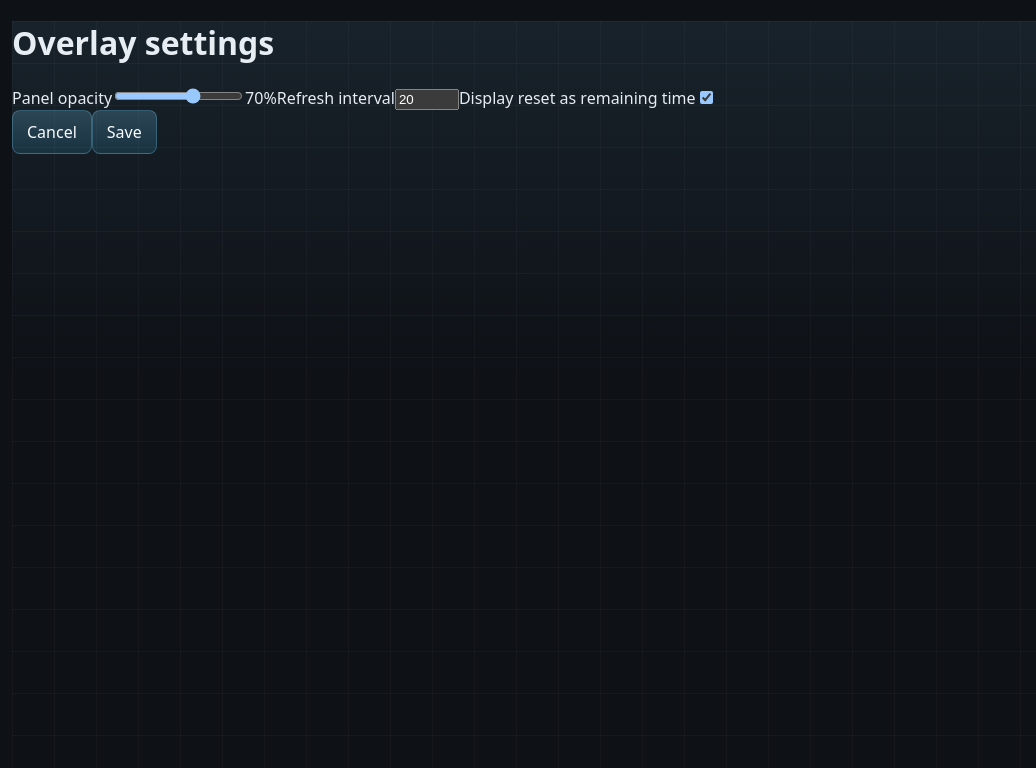
Test: SettingsDialog › slider와 number 표시가 panelAlphaPercent 값을 공유한다
Set the slider labelled "Panel opacity" to "55" at (172, 96), box [114,88,243,104]
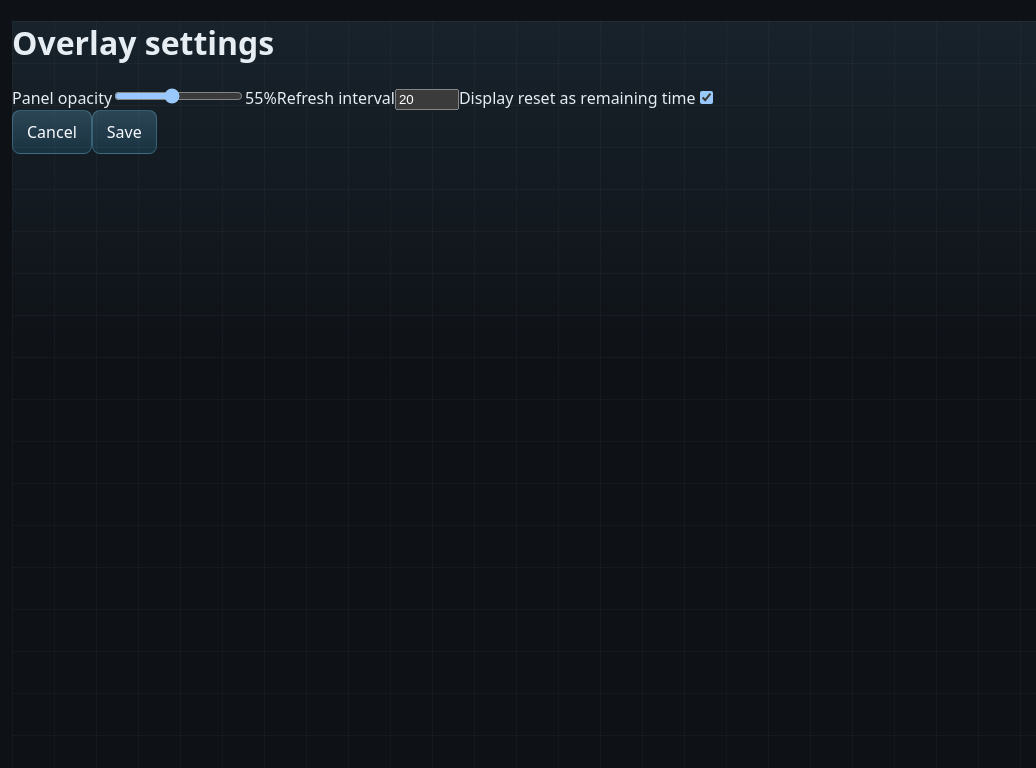
Now the text "55%" is shown, box [245,87,277,109]
